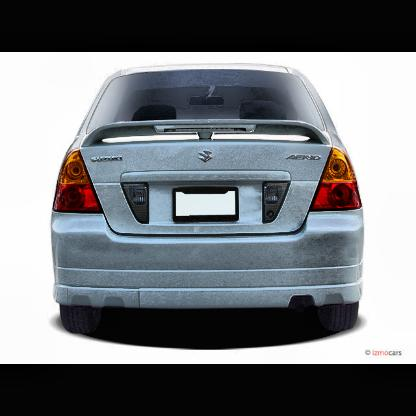Suzuki Aerio Sedan 2007: (49, 66, 367, 335)
